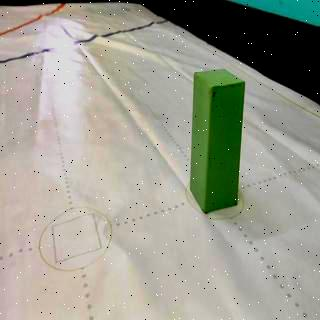greenbox: (188, 67, 246, 216)
